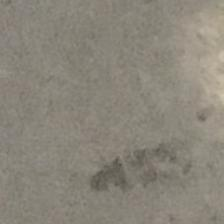Non_Crack: (14, 7, 219, 212)
